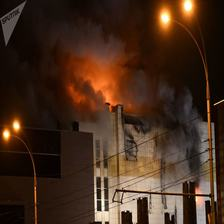fire: (52, 45, 135, 115), (171, 116, 205, 204)
